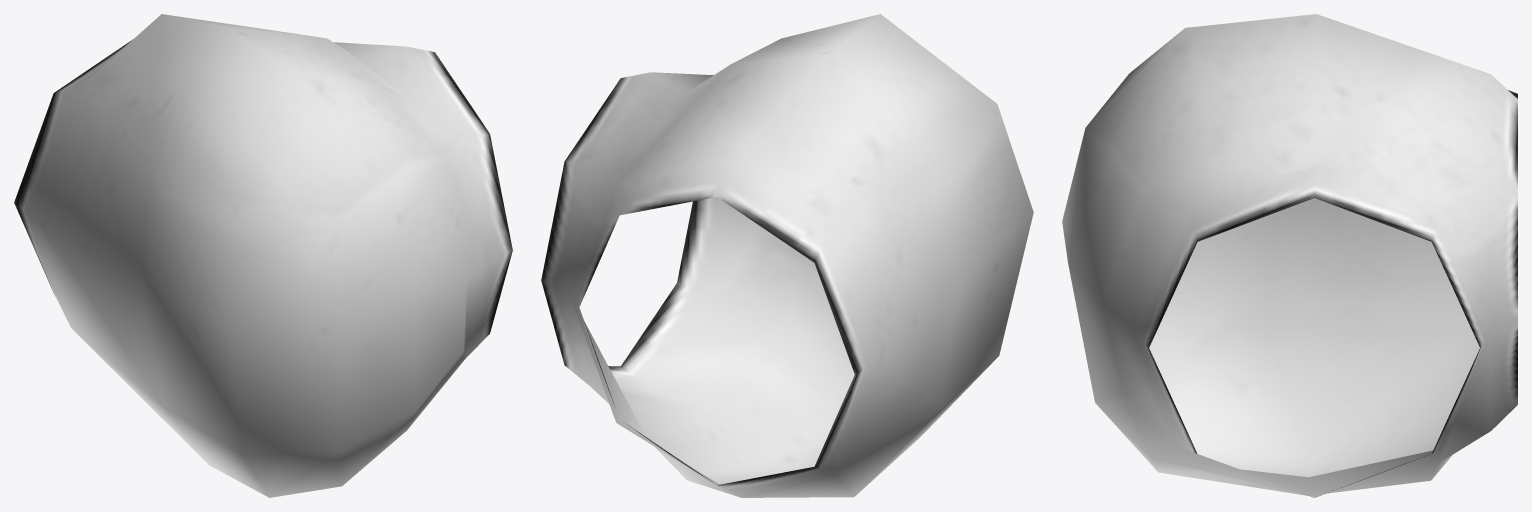
The model's file is big_arm_link_3.dae.
3 renders of one model, left to right at view 1: azimuth 30°, elevation 25°; view 2: azimuth 150°, elevation 25°; view 3: azimuth 270°, elevation 25°, orthographic. The views are drawn at different scales.
Parts seen in each view (by area): view 1: Big Arm_3; view 2: Big Arm_3; view 3: Big Arm_3.
Part boxes in pixels (left/top/right/bottom): Big Arm_3: left=14, top=14, right=512, bottom=497; Big Arm_3: left=541, top=14, right=1033, bottom=497; Big Arm_3: left=1062, top=14, right=1517, bottom=497.
Size of the model in its own units: 0.2981 by 0.3407 by 0.3763.
Materials: 1 (1 with a texture image).
